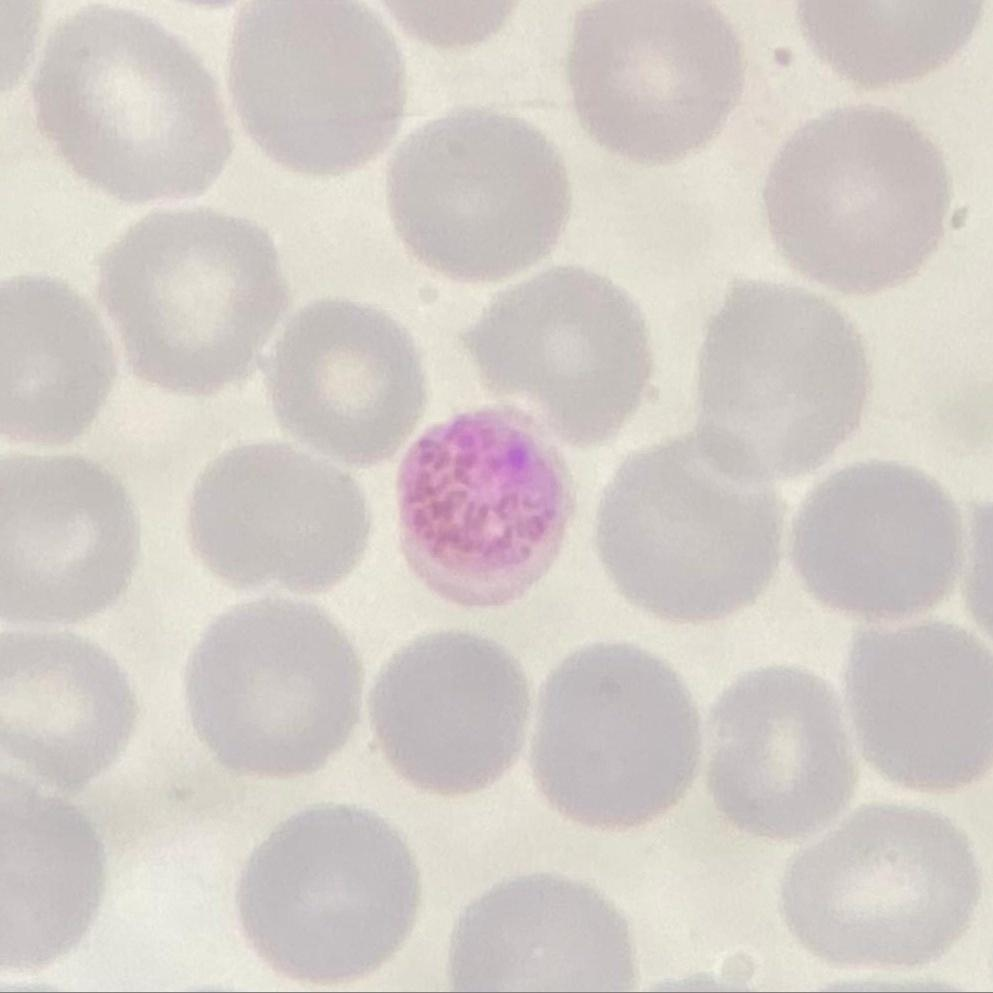Infected: (397, 405, 569, 600)
Uninfected: (36, 7, 229, 203), (692, 271, 871, 479), (598, 438, 783, 627), (464, 264, 653, 445), (100, 210, 286, 392), (767, 107, 948, 291), (236, 804, 420, 984), (228, 0, 412, 177), (186, 599, 365, 779), (531, 639, 700, 829), (784, 804, 973, 969), (386, 111, 567, 281), (569, 1, 744, 160), (188, 443, 372, 594), (793, 460, 961, 623), (370, 628, 531, 798), (842, 621, 992, 796), (268, 299, 428, 462), (707, 663, 854, 836), (4, 453, 136, 625), (5, 628, 137, 793)
